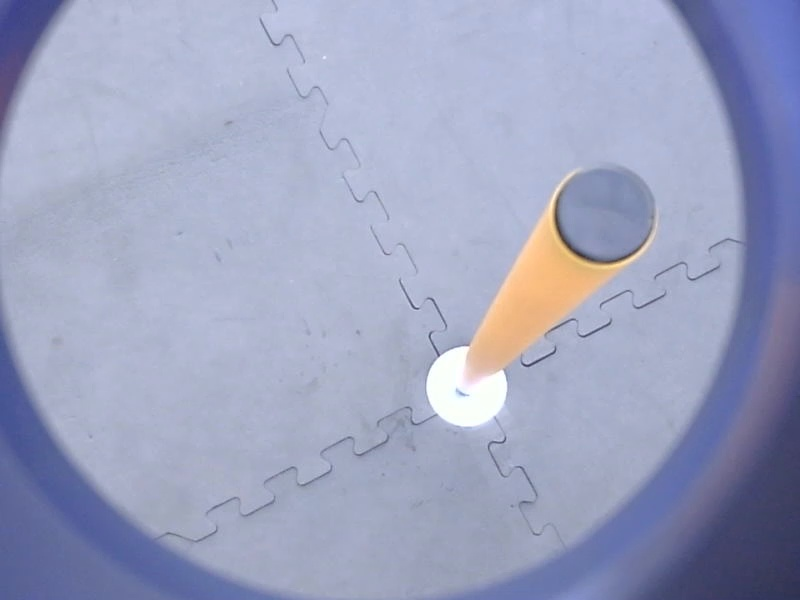tip: (543, 157, 664, 275)
